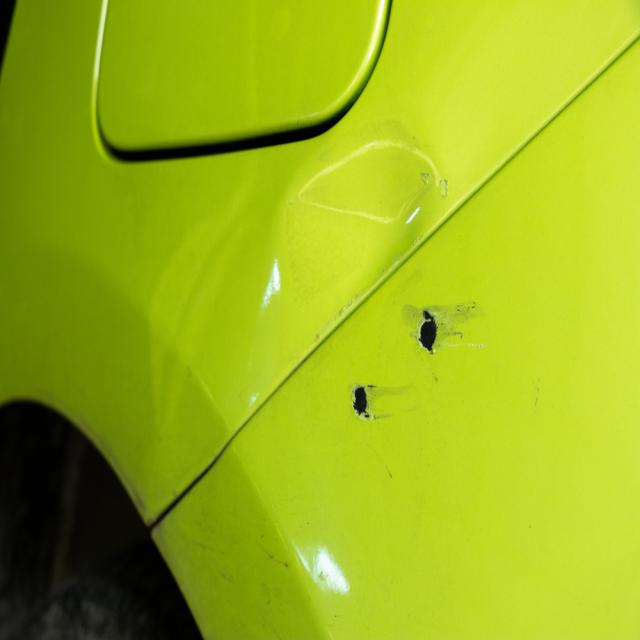dent: (289, 144, 439, 327)
scratch: (336, 288, 484, 433)
